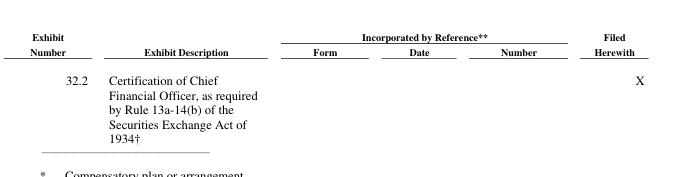table: (29, 29, 643, 145)
table column: (97, 29, 284, 145), (464, 29, 564, 145), (372, 29, 464, 145), (284, 29, 372, 145), (564, 29, 643, 145), (29, 29, 97, 145)
table column header: (29, 29, 643, 64)
table row: (29, 64, 643, 145), (29, 44, 643, 64), (29, 29, 643, 44)
table spanning cell: (97, 29, 284, 64), (284, 29, 564, 44), (564, 29, 643, 64), (29, 29, 97, 64)
